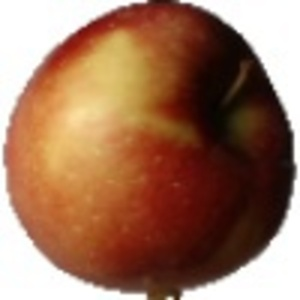maçã braeburn: (4, 3, 297, 291)
